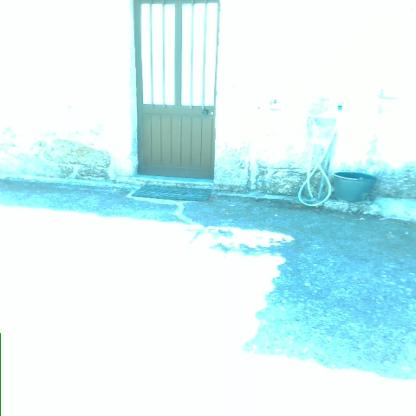closed: (110, 0, 237, 191)
